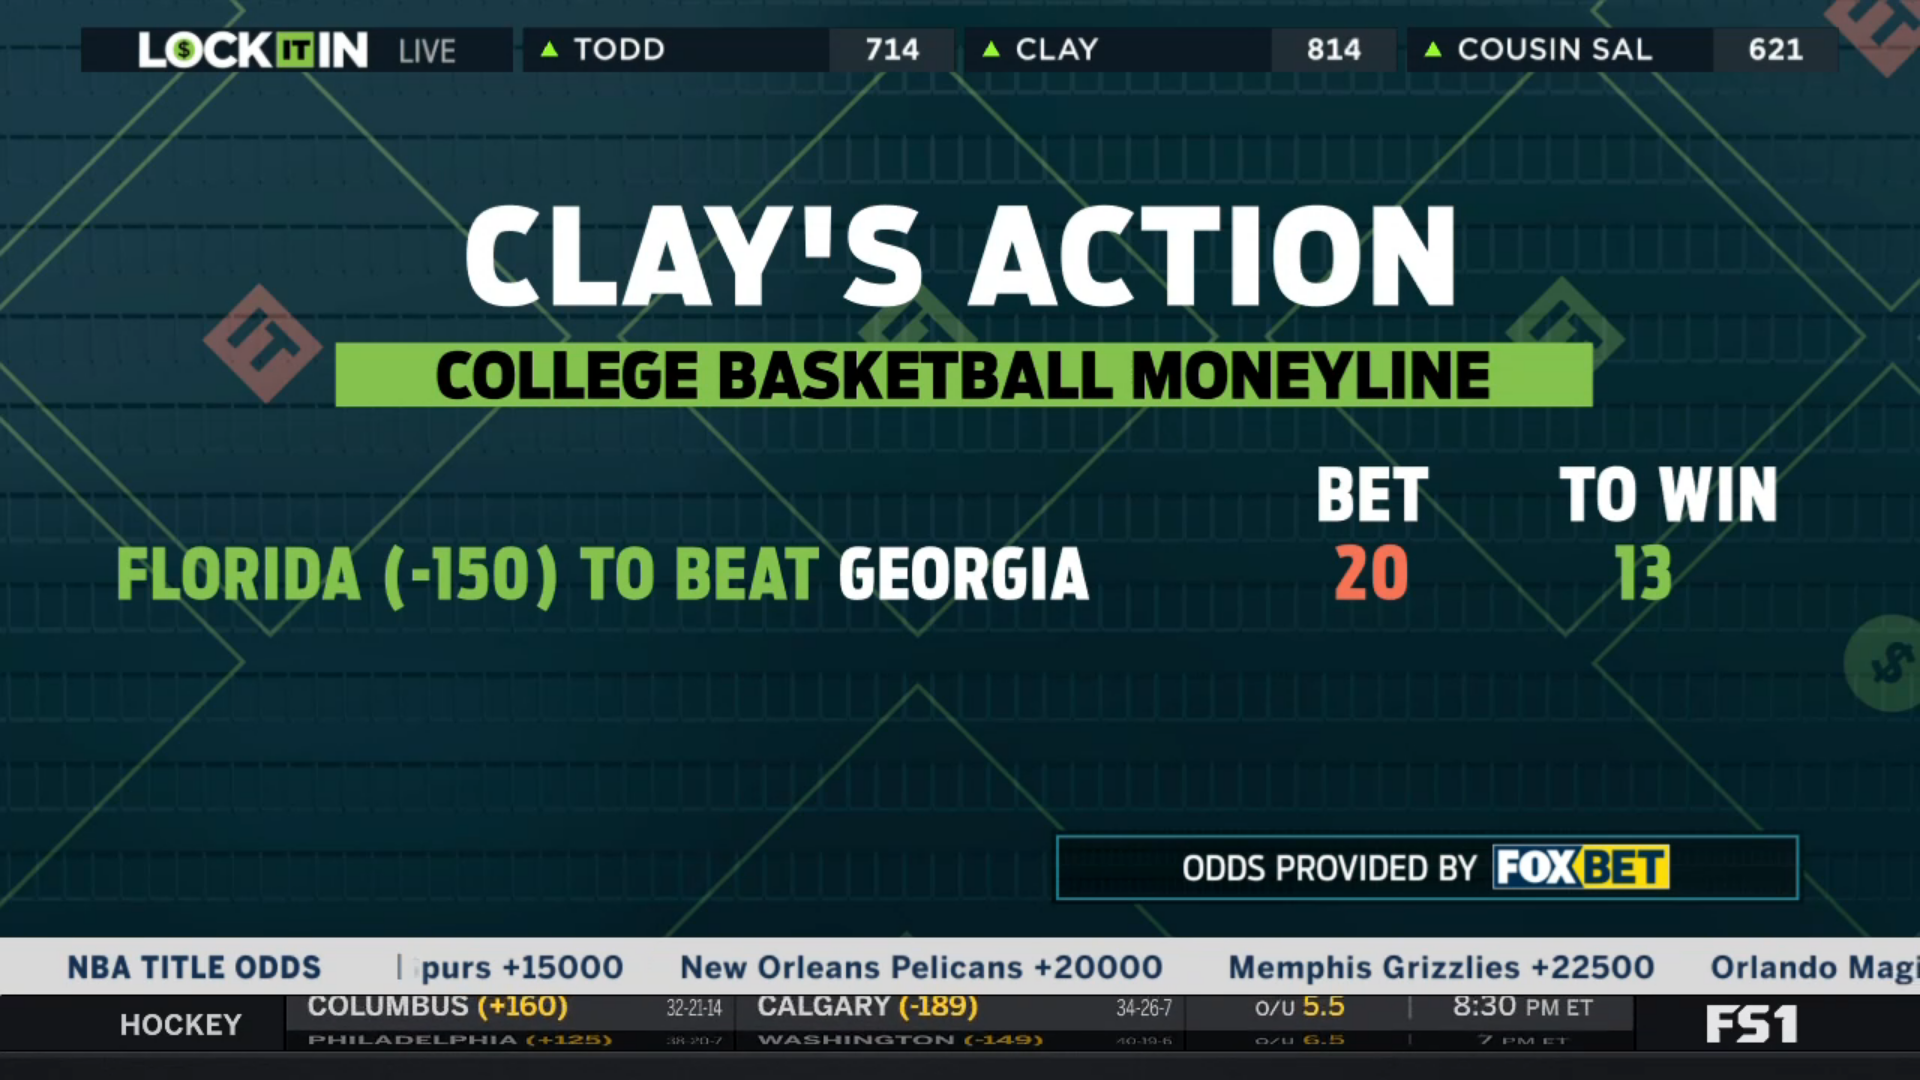Bet: (109, 529, 1102, 612)
Bet Amount: (1304, 451, 1440, 608)
Subtitle: (328, 328, 1605, 417)
Title: (459, 185, 1469, 320)
To Win: (1545, 452, 1788, 609)
Top Bar: (73, 16, 1847, 80)
